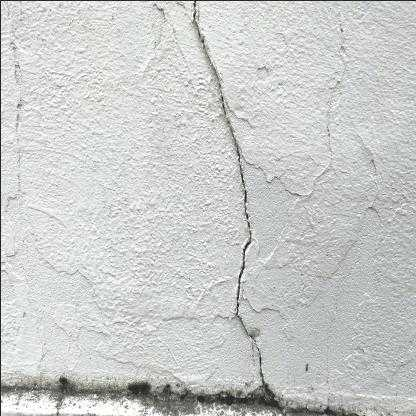crack: (189, 0, 280, 405)
